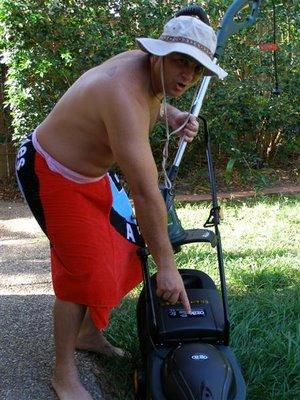person: (14, 7, 217, 399)
